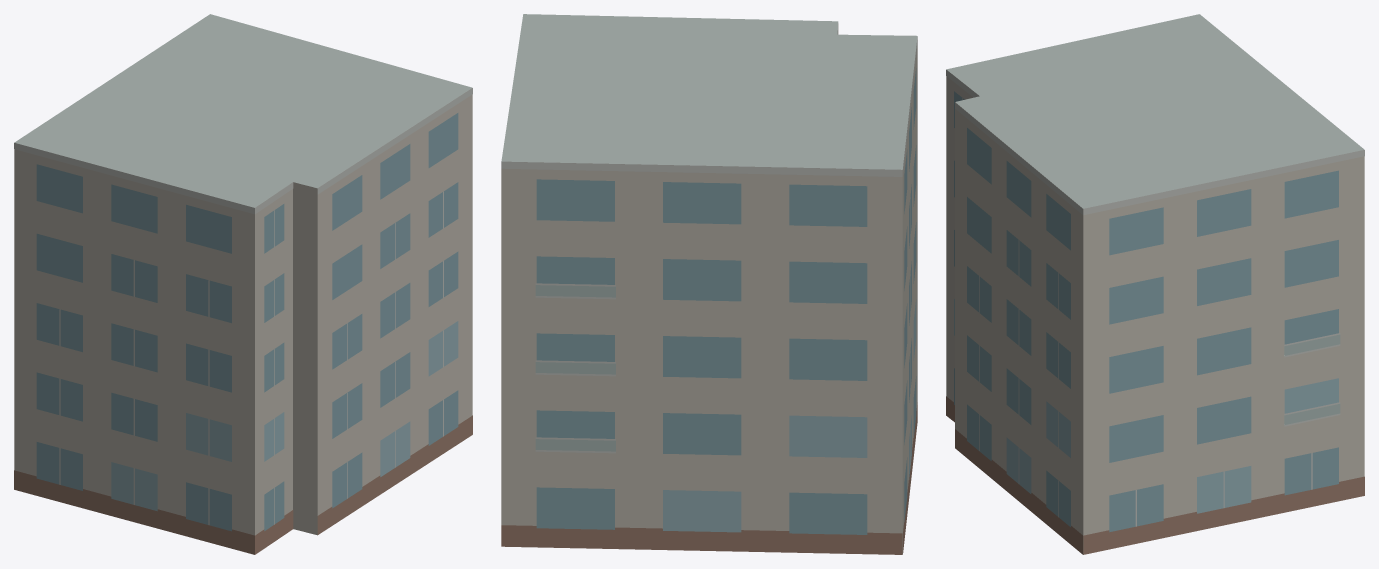
Rendered from survey-upis-32979601.glb.
3 views of the same model, side by side, from view 1: azimuth 30°, elevation 25°; view 2: azimuth 150°, elevation 25°; view 3: azimuth 270°, elevation 25° (orthographic). The views are drawn at different scales.
Parts seen in each view (by area): view 1: survey-upis-32979601.tmp; view 2: survey-upis-32979601.tmp; view 3: survey-upis-32979601.tmp.
Part boxes in pixels (x1,y1,x2,y2): survey-upis-32979601.tmp: (14, 14, 472, 554); survey-upis-32979601.tmp: (501, 14, 917, 554); survey-upis-32979601.tmp: (946, 14, 1364, 554).
Size of the model in its own units: 15.83 by 13.1 by 14.37.
